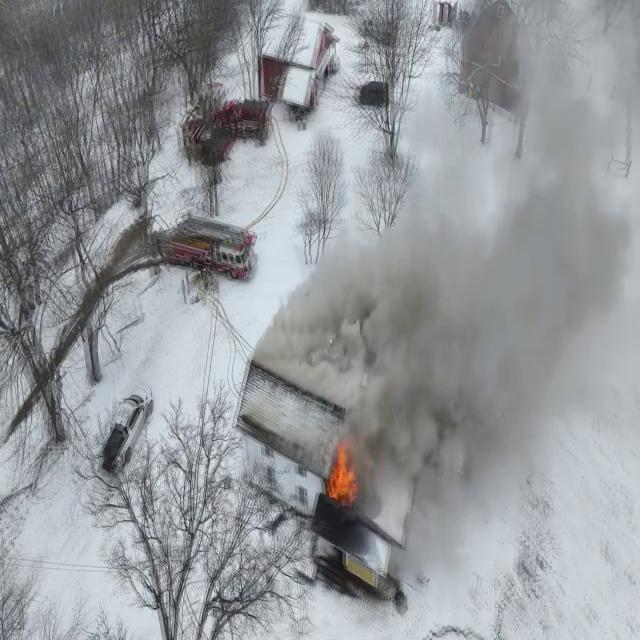Fire: (324, 432, 362, 510)
Smoke: (326, 4, 640, 628)
